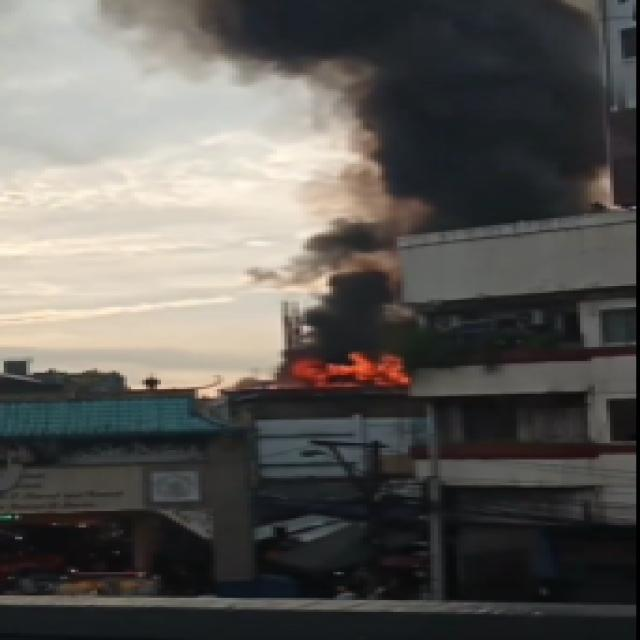Fire: (272, 355, 420, 388)
Smoke: (152, 0, 615, 231), (291, 238, 420, 366)
